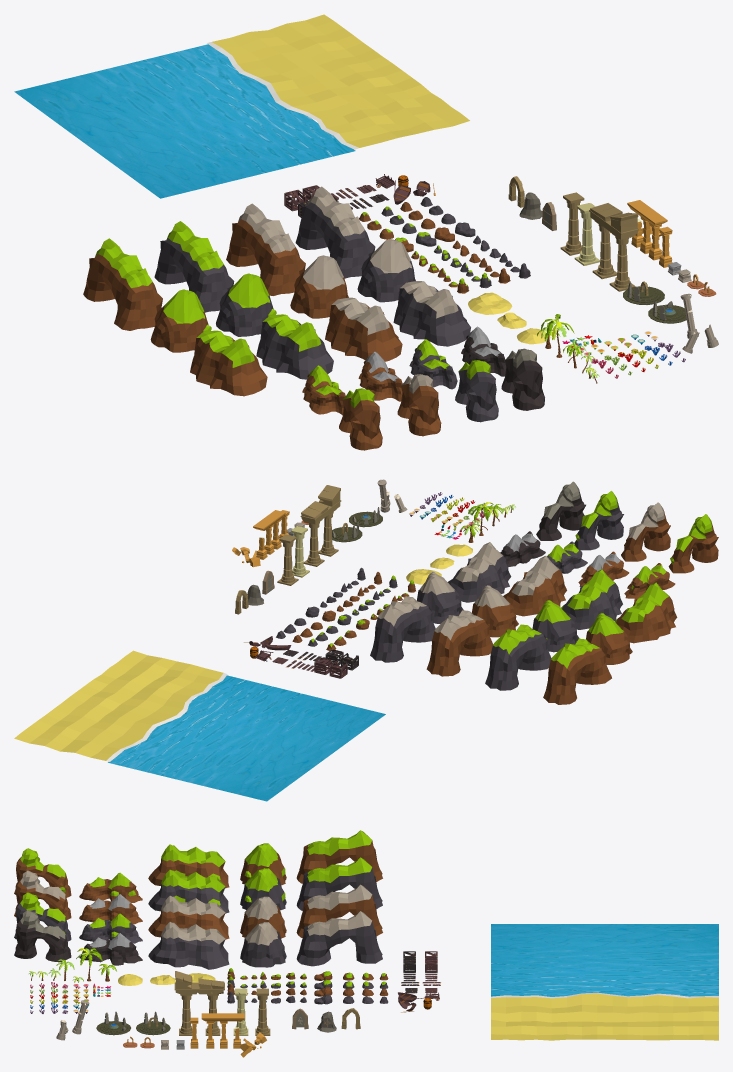
The picture shows the model from 3 angles, top to bottom: view 1: azimuth 30°, elevation 25°; view 2: azimuth 150°, elevation 25°; view 3: azimuth 270°, elevation 25°; orthographic projection. The views are drawn at different scales.
Parts seen in each view (by area): view 1: Sea, Sand.003, BigROCK.019, BigROCK.018, BigROCK.003, BigROCK.017, BigROCK, BigROCK.013, BigROCK.011, BigROCK.012, BigROCK.015, BigROCK.016 (+16 smaller); view 2: Sea, Sand.003, BigROCK.019, BigROCK.017, BigROCK.018, BigROCK.003, BigROCK.013, BigROCK.011, BigROCK, BigROCK.012, Plane.010, BigROCK.007 (+14 smaller); view 3: Sea, Sand.003, BigROCK.003, BigROCK, BigROCK.017, BigROCK.019, BigROCK.018, BigROCK.011, BigROCK.012, BigROCK.013, BigROCK.004, BigROCK.002 (+16 smaller).
Part boxes in pixels (x1,y1,x2,y2): Sea: [14, 44, 355, 198]; Sand.003: [207, 14, 469, 149]; BigROCK.019: [83, 238, 162, 330]; BigROCK.018: [226, 203, 305, 295]; BigROCK.003: [295, 186, 375, 278]; BigROCK.017: [154, 221, 234, 312]; BigROCK: [393, 281, 470, 346]; BigROCK.013: [190, 330, 267, 396]; BigROCK.011: [325, 297, 402, 361]; BigROCK.012: [256, 314, 333, 379]; BigROCK.015: [216, 273, 276, 336]; BigROCK.016: [150, 289, 211, 352]; Sea: [108, 675, 385, 801]; Sand.003: [14, 650, 227, 761]; BigROCK.019: [543, 638, 611, 704]; BigROCK.017: [485, 624, 551, 690]; BigROCK.018: [426, 610, 493, 676]; BigROCK.003: [370, 596, 435, 662]; BigROCK.013: [615, 582, 677, 643]; BigROCK.011: [503, 556, 566, 616]; BigROCK: [448, 542, 511, 602]; BigROCK.012: [561, 569, 622, 629]; Plane.010: [300, 485, 341, 566]; BigROCK.007: [668, 514, 718, 573]; Sea: [491, 924, 718, 996]; Sand.003: [491, 992, 718, 1040]; BigROCK.003: [296, 911, 382, 966]; BigROCK: [148, 922, 229, 969]; BigROCK.017: [296, 857, 382, 910]; BigROCK.019: [296, 830, 382, 883]; BigROCK.018: [296, 884, 382, 937]; BigROCK.011: [148, 895, 229, 939]; BigROCK.012: [148, 869, 229, 913]; BigROCK.013: [148, 844, 229, 888]; BigROCK.004: [14, 910, 71, 962]; BigROCK.002: [240, 922, 286, 967].
Bounding box in the file's own units: 152 × 23.76 × 238.
Materials: 2 (2 with a texture image).
